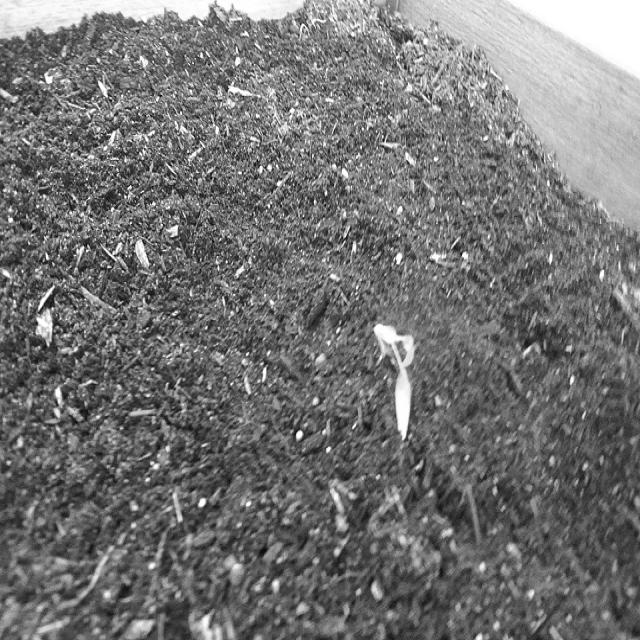Unhealthy: (368, 312, 421, 449)
